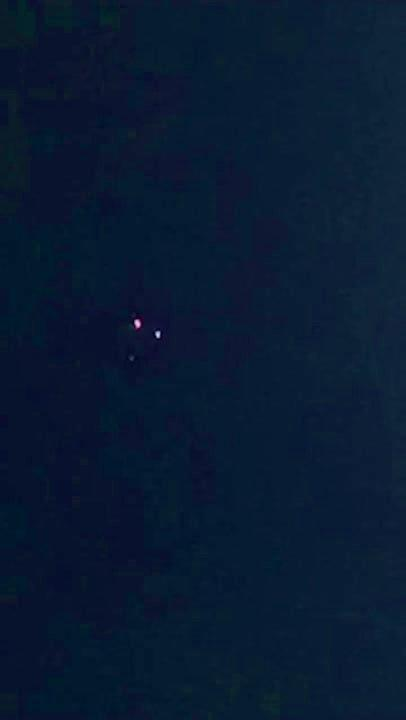Plane: (103, 308, 176, 383)
